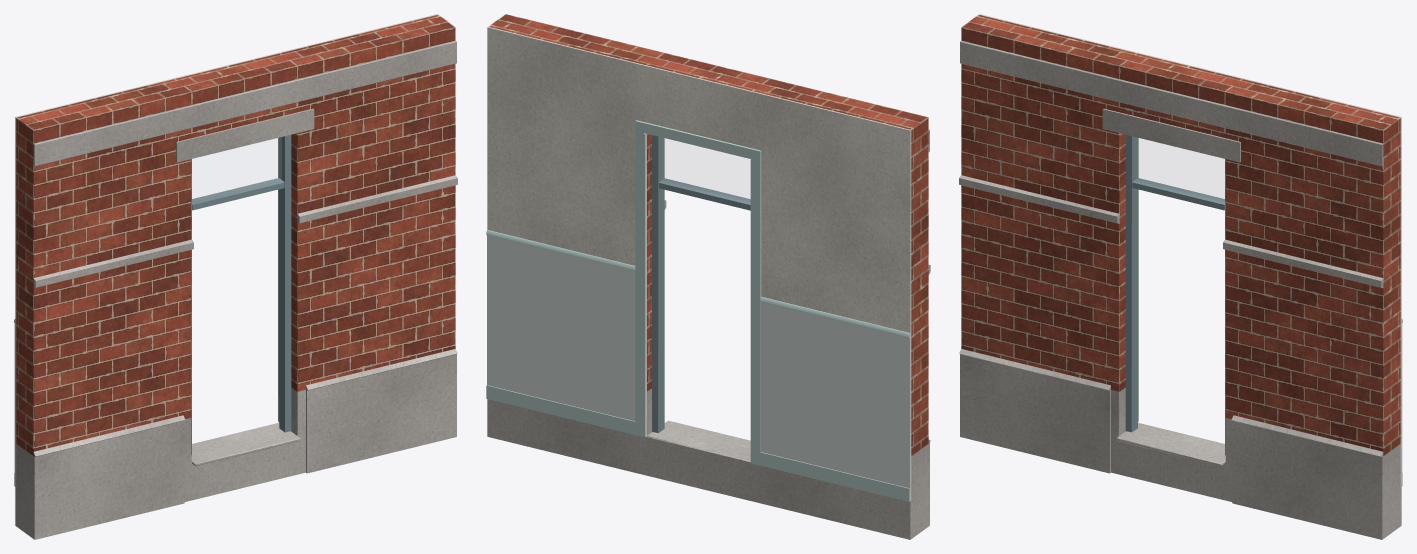
Rendered from w_gdoor.glb.
3 views of the same model, side by side, from view 1: azimuth 30°, elevation 25°; view 2: azimuth 150°, elevation 25°; view 3: azimuth 330°, elevation 25° (orthographic).
Parts seen in each view (by area): view 1: w_gdoor_brick, w_gdoor_concrete, w_gdoor_frame, w_gdoor_glass, w_gdoor_plaster; view 2: w_gdoor_plaster, w_gdoor_tile_w, w_gdoor_concrete, w_gdoor_brick, w_gdoor_tile_c, w_gdoor_frame, w_gdoor_glass; view 3: w_gdoor_brick, w_gdoor_concrete, w_gdoor_frame, w_gdoor_glass, w_gdoor_plaster.
Part boxes in pixels (x1,y1,x2,y2): w_gdoor_brick: (16, 14, 455, 455); w_gdoor_concrete: (15, 40, 457, 539); w_gdoor_frame: (191, 135, 291, 455); w_gdoor_glass: (192, 137, 281, 201); w_gdoor_plaster: (15, 14, 437, 487); w_gdoor_plaster: (487, 27, 911, 500); w_gdoor_tile_w: (487, 235, 910, 500); w_gdoor_concrete: (487, 129, 930, 539); w_gdoor_brick: (488, 14, 928, 455); w_gdoor_tile_c: (486, 120, 910, 501); w_gdoor_frame: (652, 135, 750, 432); w_gdoor_glass: (662, 138, 749, 201); w_gdoor_brick: (961, 14, 1400, 455); w_gdoor_concrete: (959, 40, 1401, 539); w_gdoor_frame: (1125, 135, 1225, 455); w_gdoor_glass: (1135, 137, 1224, 201); w_gdoor_plaster: (979, 14, 1401, 487).
Size of the model in its own units: 4 by 3.7 by 0.38.
7 materials, 3 textured.
